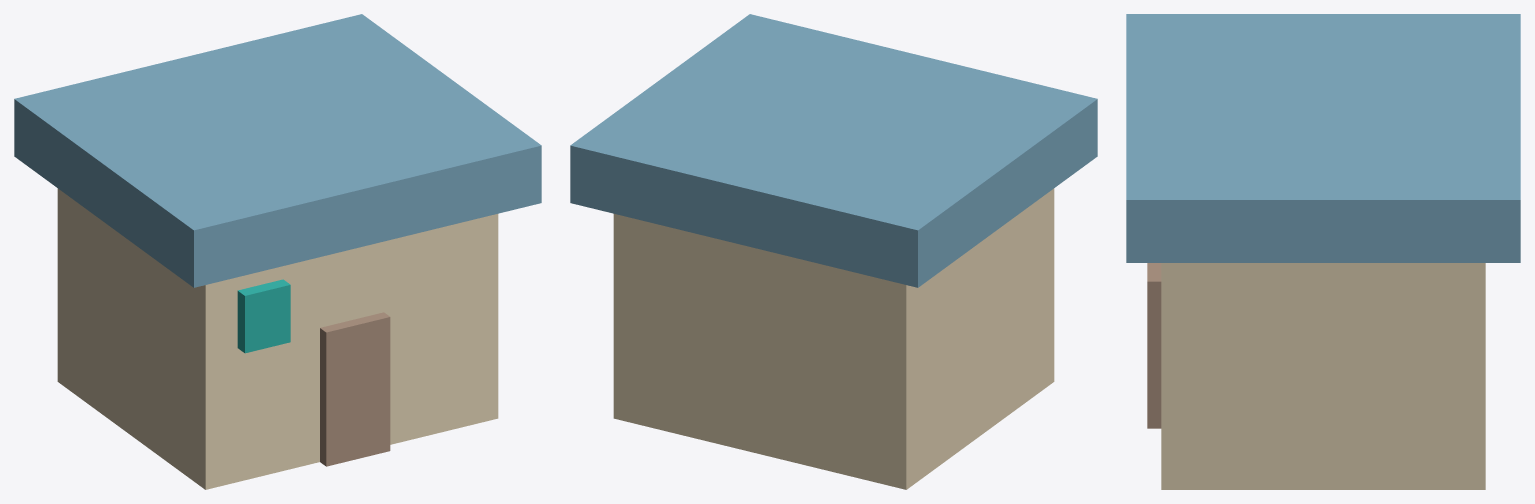
File: barracks.gltf
3 renders of one model, left to right at view 1: azimuth 30°, elevation 25°; view 2: azimuth 150°, elevation 25°; view 3: azimuth 270°, elevation 25°, orthographic. The views are drawn at different scales.
Bounding box in the file's own units: 1.9 × 1.45 × 1.7.
